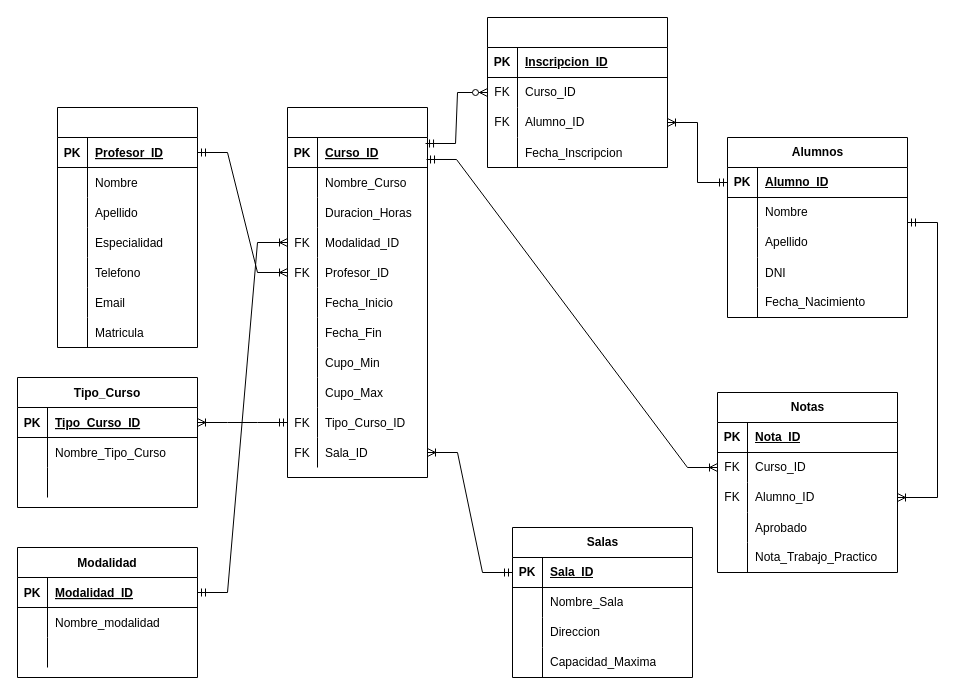
The diagram is 964 pixels wide and 695 high, and some of its shapes have lost their labels. The shapes that lost their labels are listed below. From the top down, each one's box as (x1, y1, x2, y2) in pixels, then its label:
(486, 16, 668, 168): Inscripciones
(56, 106, 198, 348): Profesores
(286, 106, 428, 478): Cursos
